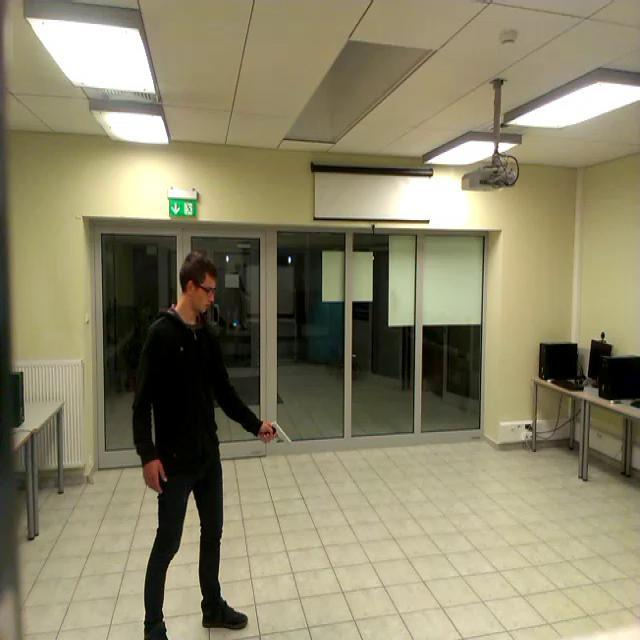Gun: (265, 420, 293, 443)
